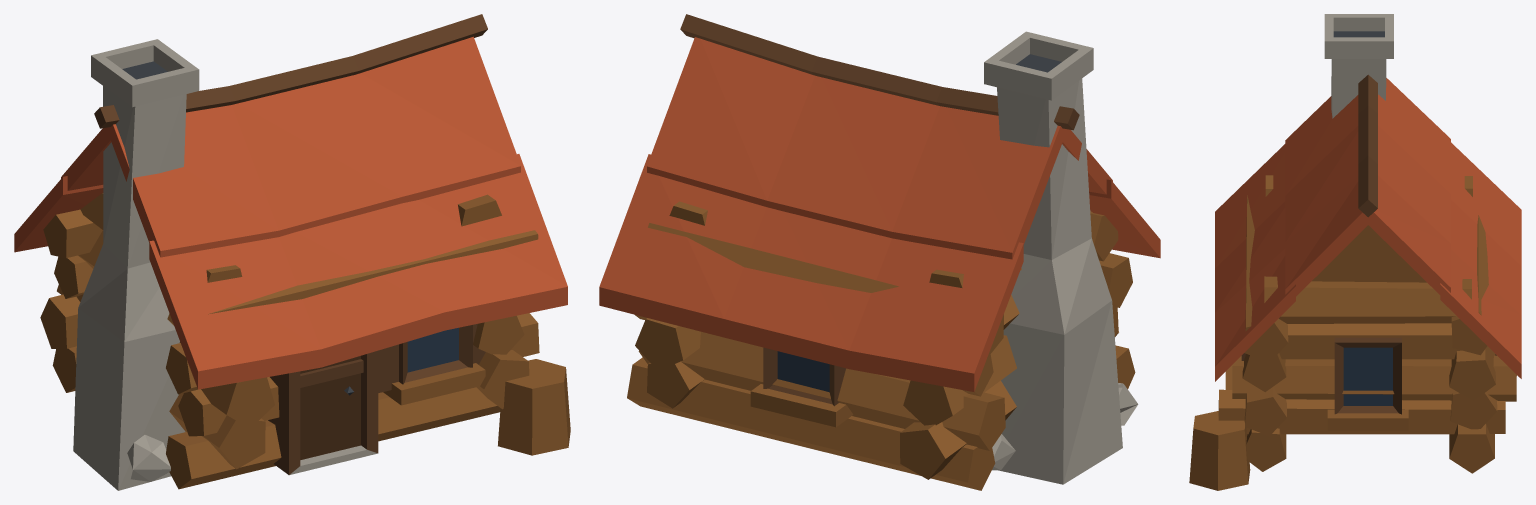
The model's file is cabin_a.glb.
3 renders of one model, left to right at view 1: azimuth 30°, elevation 25°; view 2: azimuth 150°, elevation 25°; view 3: azimuth 270°, elevation 25°, orthographic. The views are drawn at different scales.
Parts seen in each view (by area): view 1: cabin_a; view 2: cabin_a; view 3: cabin_a.
Part boxes in pixels (x1,y1,x2,y2): cabin_a: (14,14,570,490); cabin_a: (599,14,1160,490); cabin_a: (1189,14,1521,490).
Bounding box in the file's own units: 0.774 × 0.734 × 0.6715.
